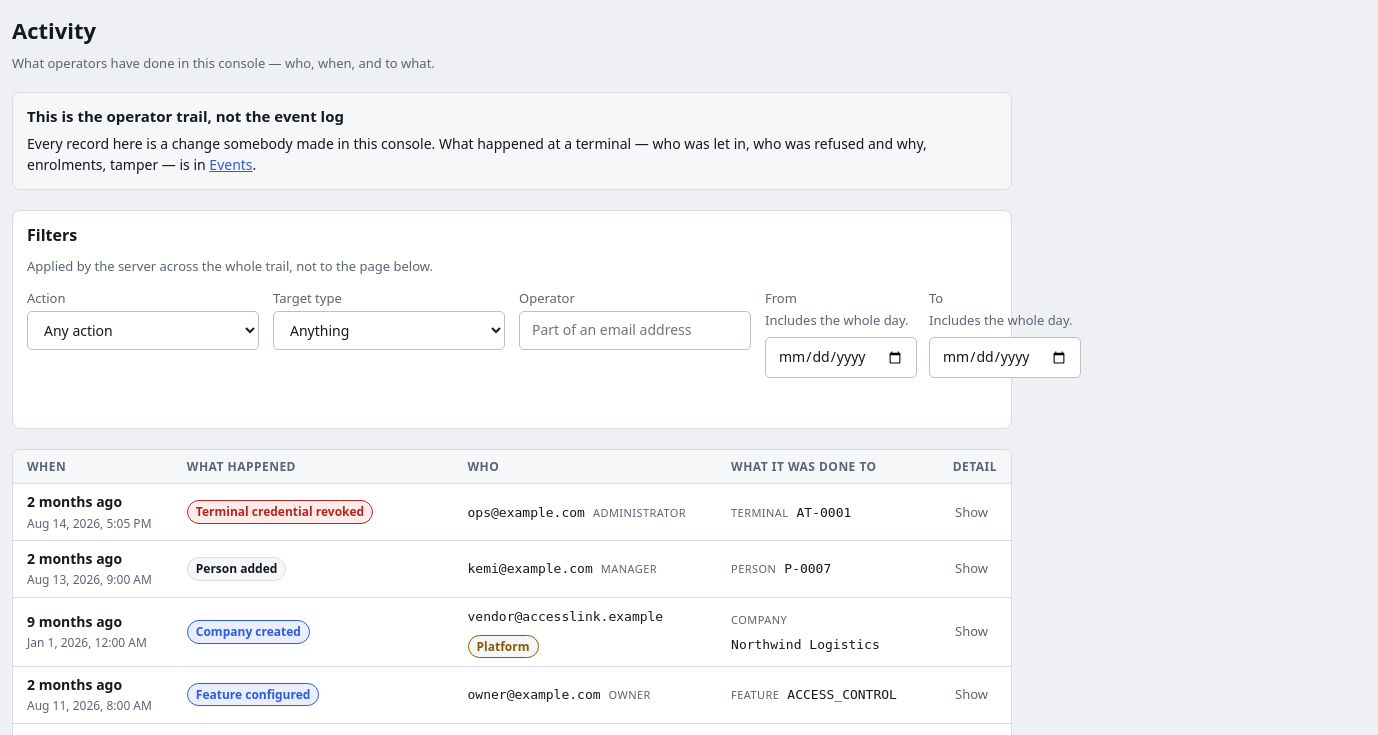
it: filtering › narrows by operator on the server too
The width and height of the screenshot is (1378, 735).
Expected: the text "AT-0001" is shown, [796,504,851,523]
Type "kemi" into the search field labelled "Operator". click: (635, 330)
box: [519,311,751,350]
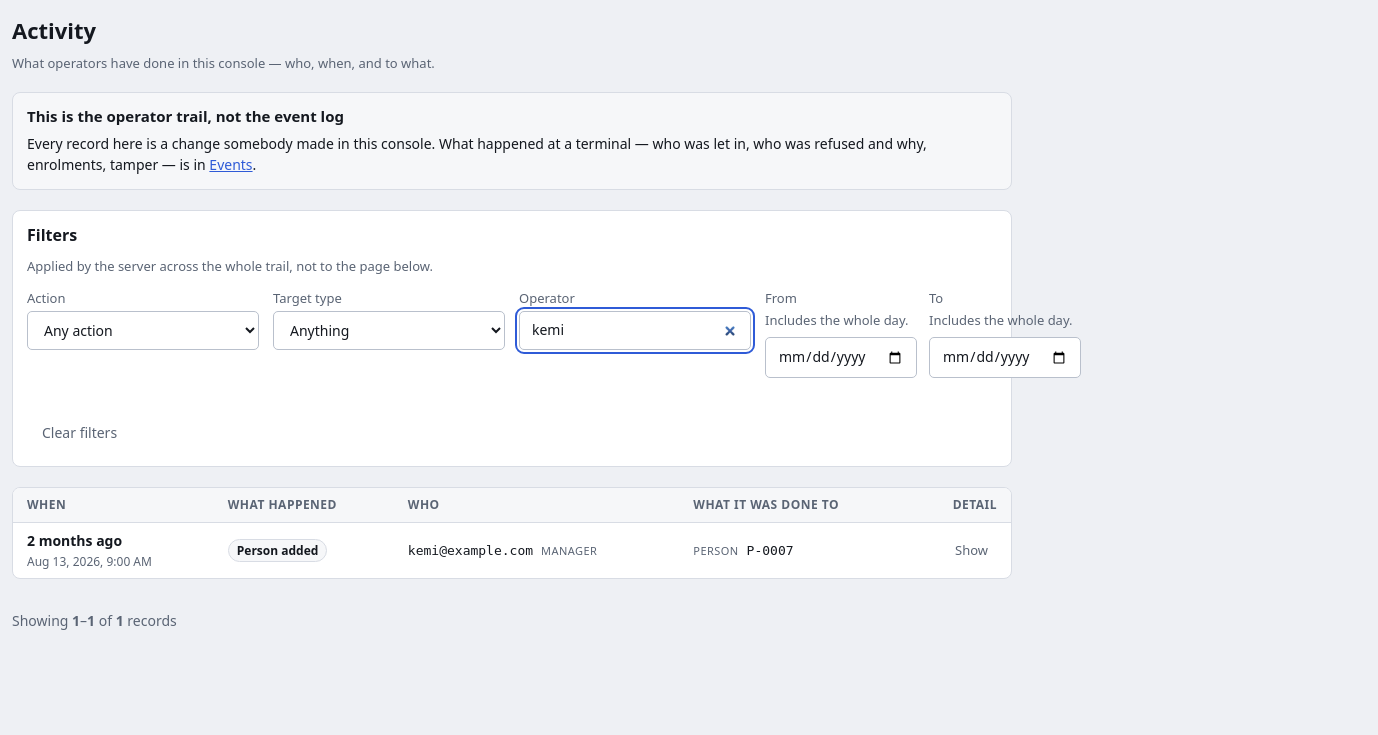
Expected: the text "AT-0001" is gone
